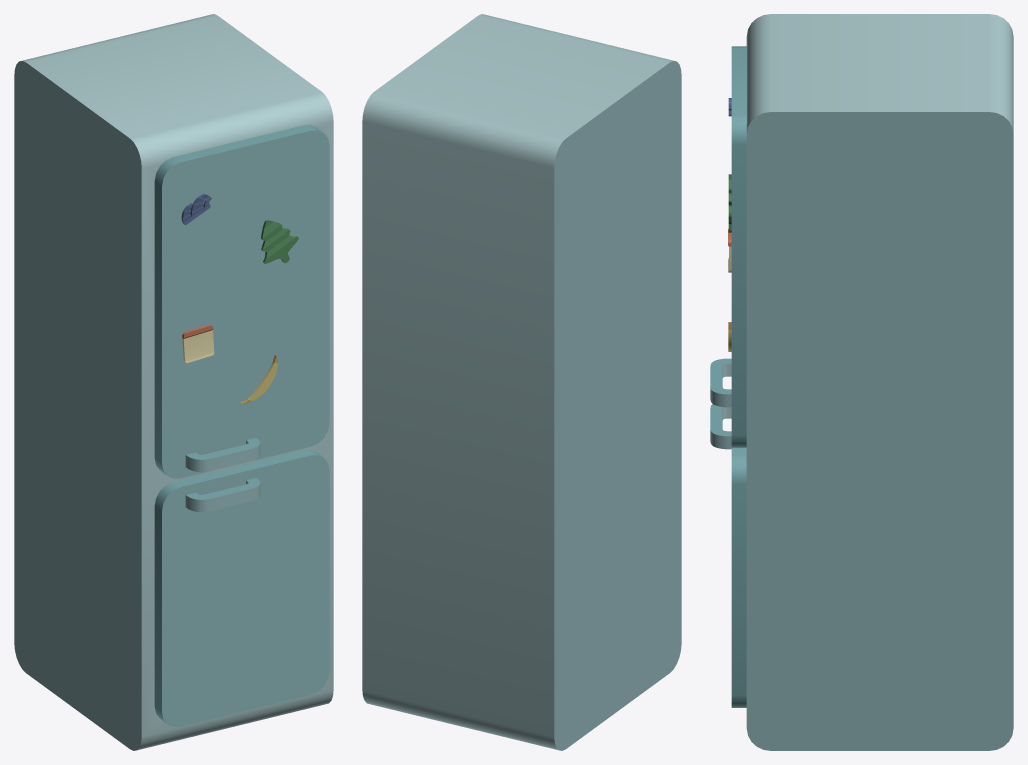
Rendered from Fridge.fbx.
The picture shows the model from 3 angles, left to right: view 1: azimuth 30°, elevation 25°; view 2: azimuth 150°, elevation 25°; view 3: azimuth 270°, elevation 25°; orthographic projection. The views are drawn at different scales.
Parts seen in each view (by area): view 1: Fridge, Fridge.002, Fridge.001, Fridge Magnets; view 2: Fridge; view 3: Fridge, Fridge.002, Fridge.001, Fridge Magnets.
Boxes of the visible parts, x1=… form: Fridge: x1=14, y1=14, x2=333, y2=750; Fridge.002: x1=154, y1=125, x2=329, y2=478; Fridge.001: x1=154, y1=449, x2=329, y2=727; Fridge Magnets: x1=181, y1=194, x2=298, y2=404; Fridge: x1=362, y1=14, x2=681, y2=750; Fridge: x1=746, y1=14, x2=1013, y2=750; Fridge.002: x1=710, y1=46, x2=746, y2=447; Fridge.001: x1=710, y1=404, x2=746, y2=707; Fridge Magnets: x1=728, y1=98, x2=731, y2=351.
Bounding box in the file's own units: 1.43 × 4.36 × 1.88.
